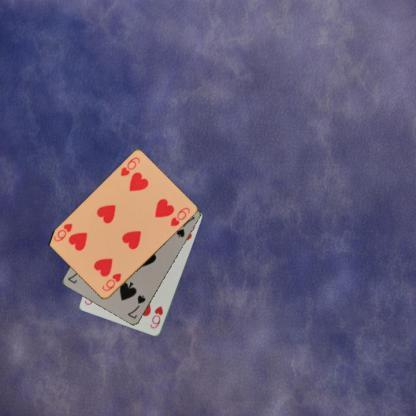6h: (117, 155, 142, 177), (147, 303, 165, 330), (100, 271, 122, 293)
7s: (125, 292, 147, 320)
